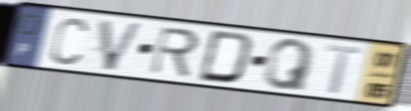C: (48, 15, 90, 67)
D: (195, 28, 256, 86)
Q: (262, 37, 317, 93)
R: (148, 25, 202, 79)
T: (324, 42, 364, 96)
V: (97, 17, 147, 73)
